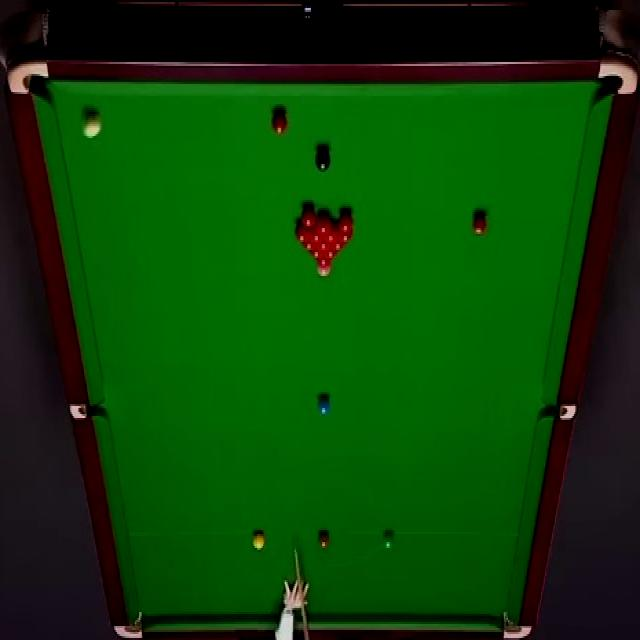black-ball: (315, 147, 331, 173)
blue-ball: (317, 398, 330, 416)
brown-ball: (317, 531, 330, 548)
green-ball: (382, 528, 396, 552)
pink-ball: (317, 260, 332, 277)
red-ball: (471, 210, 488, 237), (336, 211, 356, 233), (270, 112, 288, 134), (295, 220, 311, 244), (301, 206, 317, 228), (322, 224, 340, 242), (317, 214, 331, 235), (338, 224, 353, 243), (330, 238, 346, 253), (302, 239, 318, 253), (311, 222, 322, 242), (317, 238, 331, 252), (324, 246, 336, 262), (310, 248, 324, 260)
white-ball: (84, 112, 100, 140)
yellow-ball: (252, 530, 266, 551)
